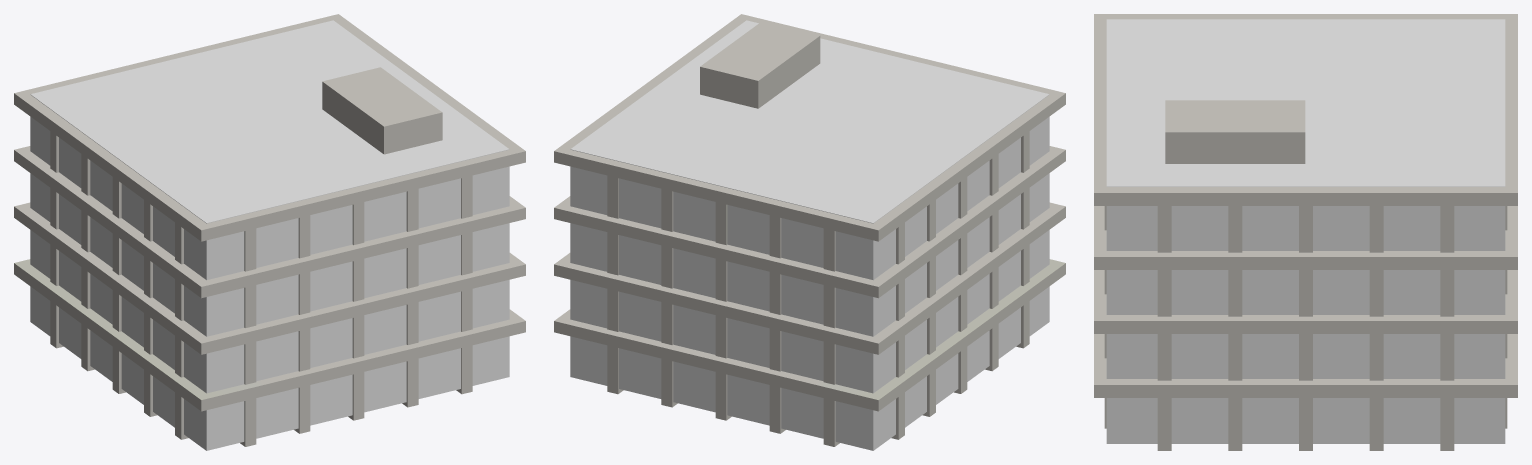
The model's file is building1.gltf.
3 views of the same model, side by side, from view 1: azimuth 30°, elevation 25°; view 2: azimuth 150°, elevation 25°; view 3: azimuth 270°, elevation 25° (orthographic). The views are drawn at different scales.
Visible parts, largest first — view 1: COL, building-office-small_Cube.130; view 2: COL, building-office-small_Cube.130; view 3: COL, building-office-small_Cube.130.
Part boxes in pixels (x1,y1,x2,y2): COL: (30,20,509,450); building-office-small_Cube.130: (14,14,525,446); COL: (570,20,1049,450); building-office-small_Cube.130: (554,14,1065,446); COL: (1106,19,1505,443); building-office-small_Cube.130: (1094,14,1517,450).
Bounding box in the file's own units: 0.6 × 0.46 × 0.6.
1 material, 1 textured.
